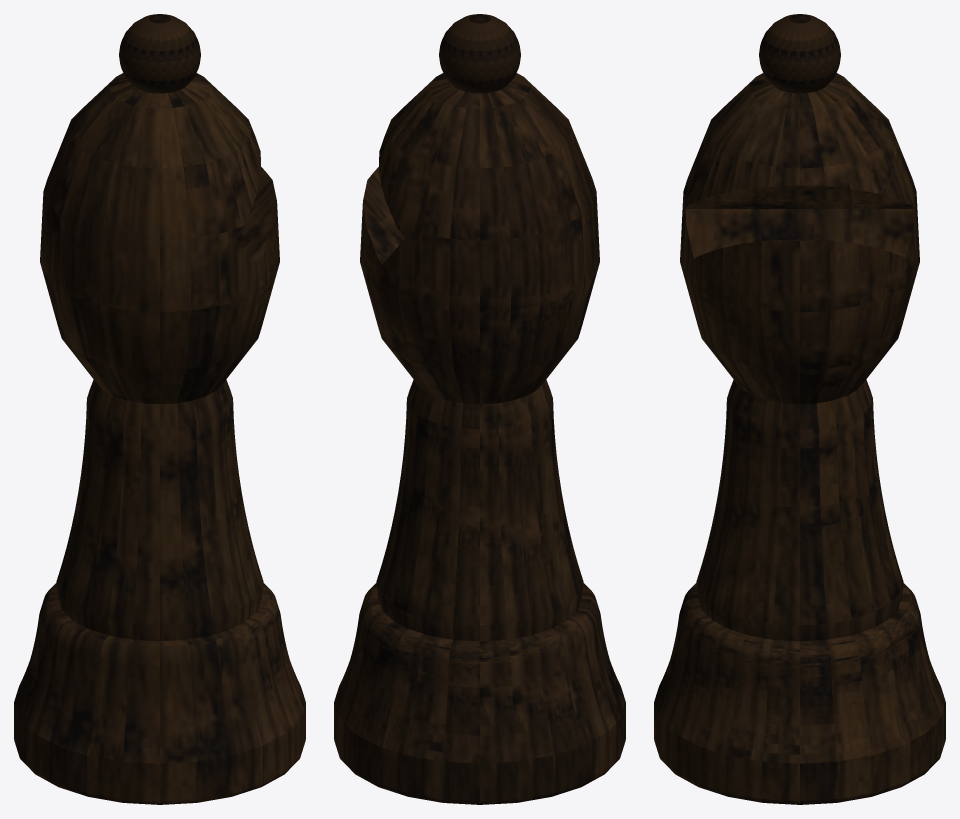
File: Bishop_b.dae
3 views of the same model, side by side, from view 1: azimuth 30°, elevation 25°; view 2: azimuth 150°, elevation 25°; view 3: azimuth 270°, elevation 25° (orthographic).
Parts seen in each view (by area): view 1: group_0, SketchUp; view 2: group_0, SketchUp; view 3: group_0, SketchUp.
Part boxes in pixels (x1,y1,x2,y2): group_0: (14,73,305,804); SketchUp: (119,14,200,93); group_0: (334,73,625,804); SketchUp: (439,14,520,93); group_0: (654,73,945,804); SketchUp: (759,14,840,93).
Size of the model in its own units: 17.95 by 17.95 by 49.33.
2 materials, 2 textured.
